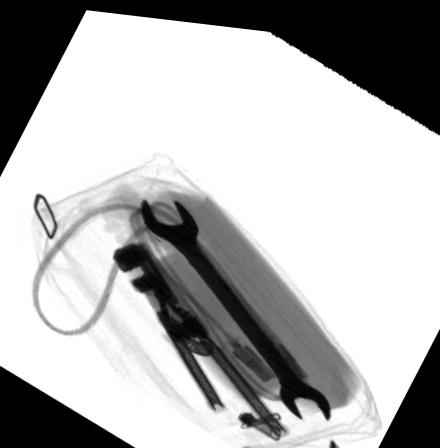Pliers: (112, 236, 288, 432)
Wrench: (140, 191, 334, 415)
